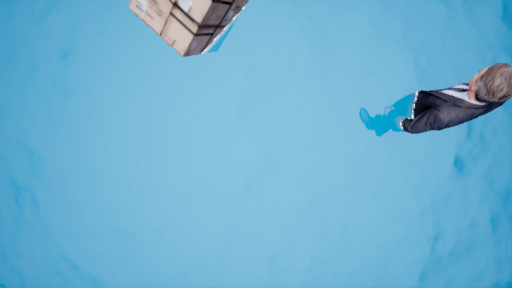person: (360, 56, 512, 157)
